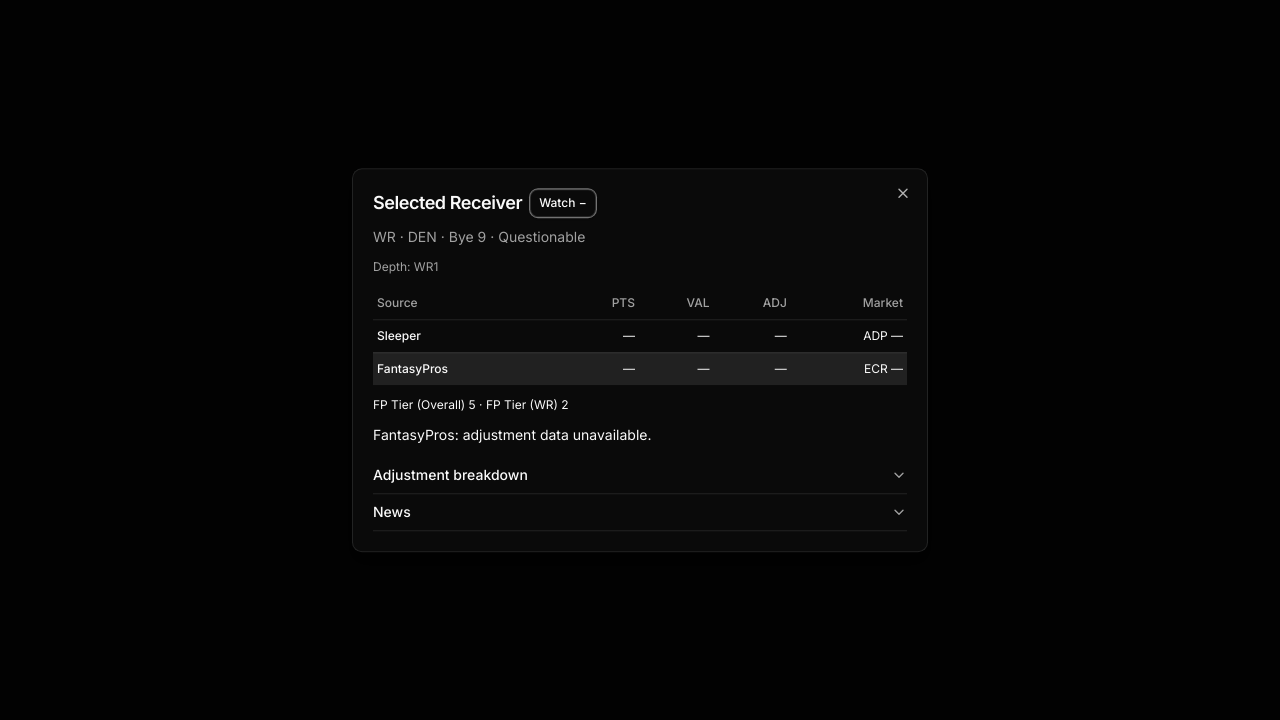
Test: PreviewPickDialog › keeps missing values missing and expands full news only on request
Click the button "News".
click(392, 511)  # box [373,494,907,530]
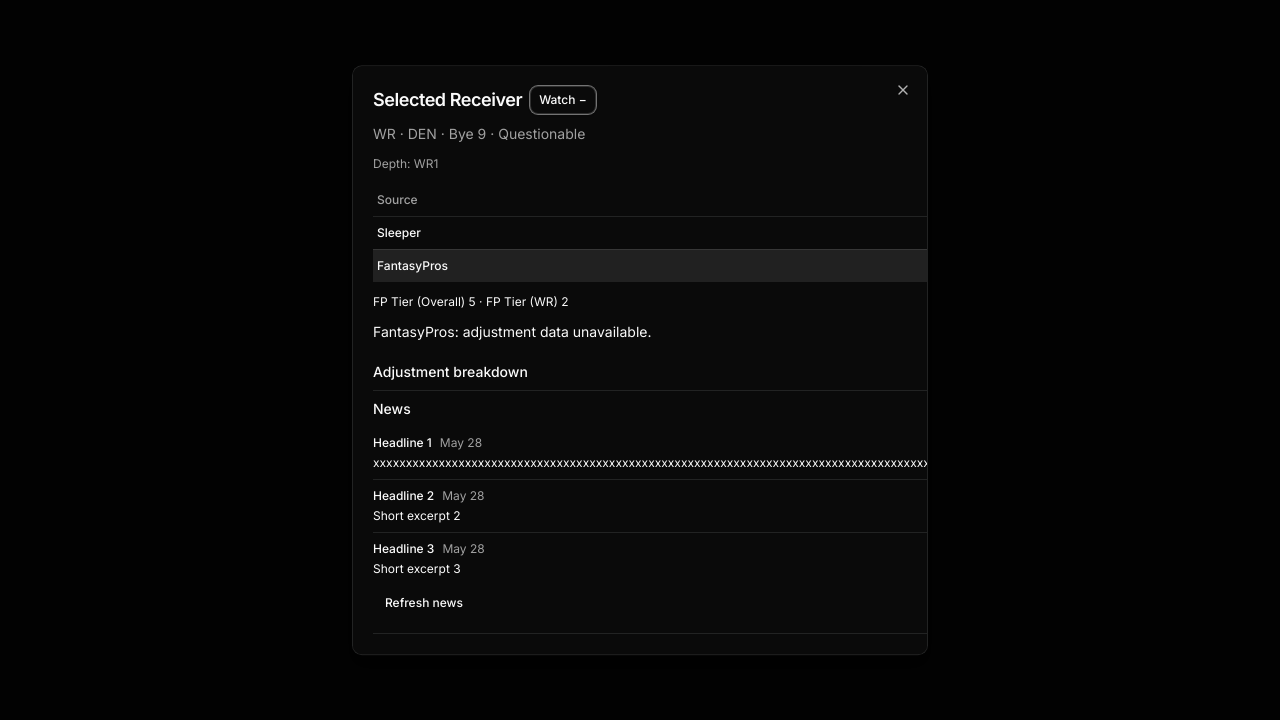
Check: the text "Headline 3" is shown, box [373,541,434,556]
